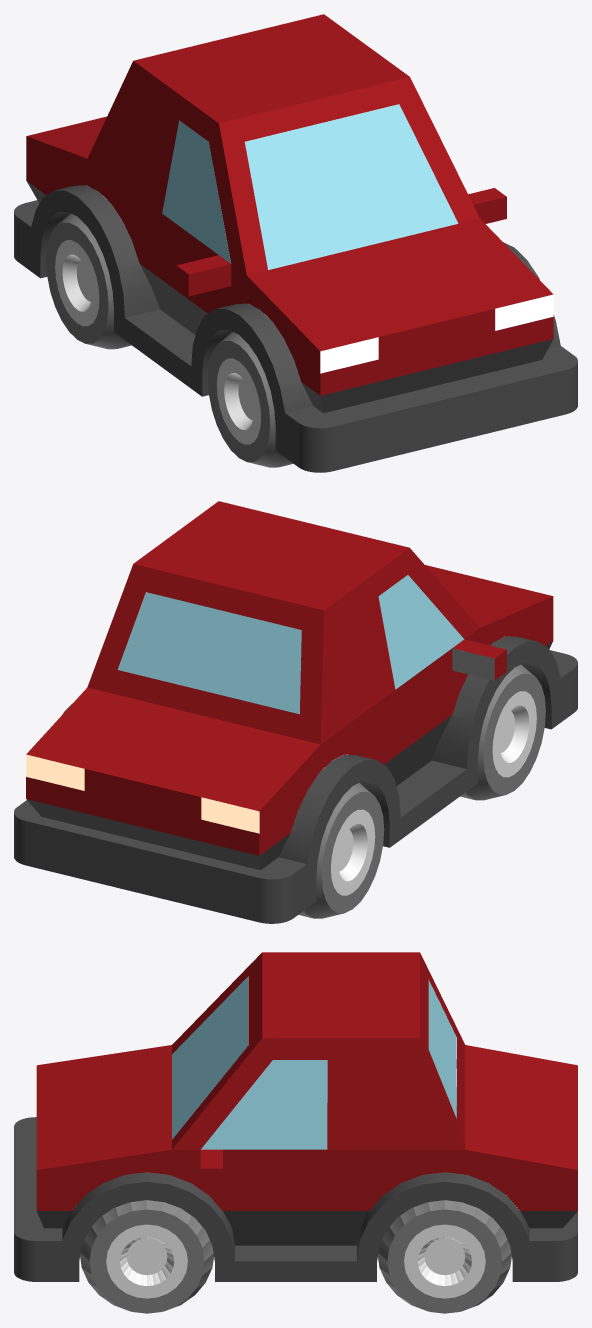
The model's file is sedan.glb.
3 views of the same model, one above another, from view 1: azimuth 30°, elevation 25°; view 2: azimuth 150°, elevation 25°; view 3: azimuth 270°, elevation 25° (orthographic). The views are drawn at different scales.
Parts seen in each view (by area): view 1: body.007; view 2: body.007; view 3: body.007.
Boxes of the visible parts, x1,y1,x2,y2 form: body.007: [14, 14, 577, 472]; body.007: [14, 501, 577, 923]; body.007: [14, 952, 577, 1313].
Size of the model in its own units: 1.5 by 1.3 by 2.5.
Materials: 3 (3 with a texture image).
